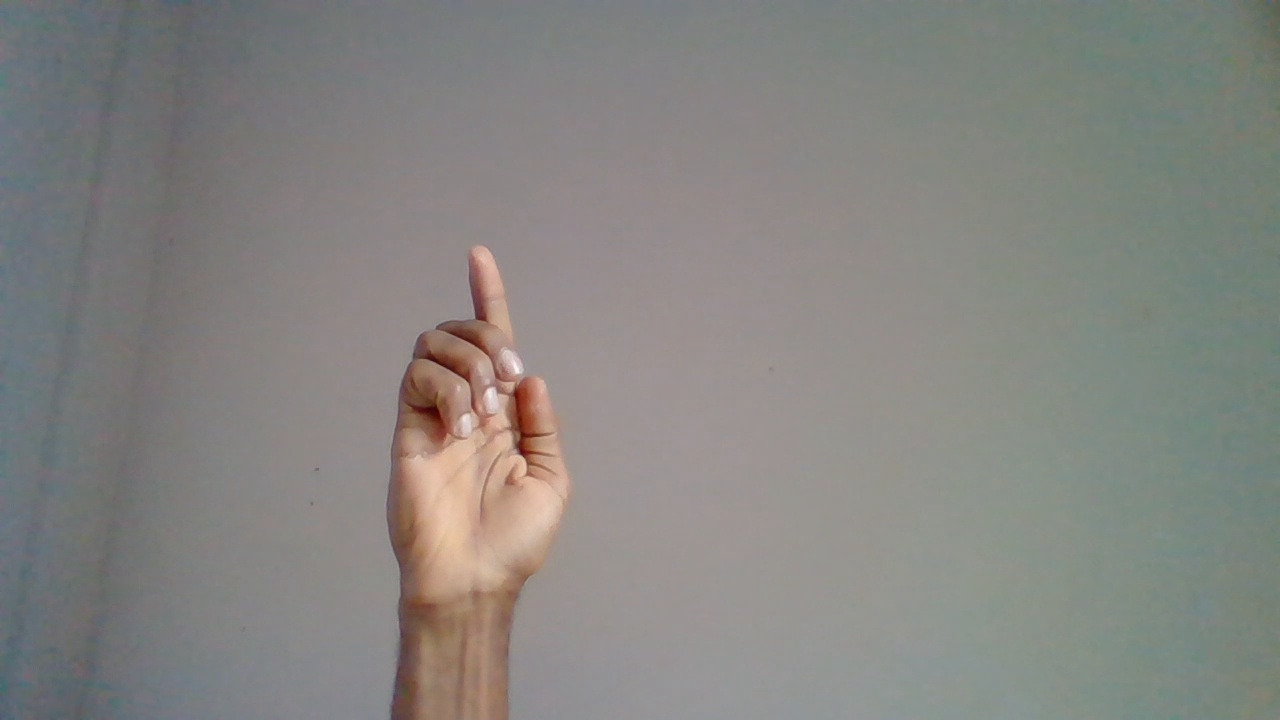qe: (390, 243, 573, 676)
